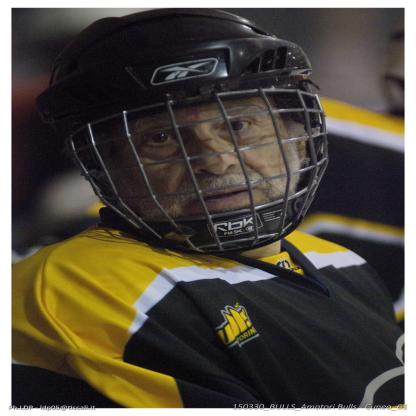Helmet: (40, 0, 341, 254)
